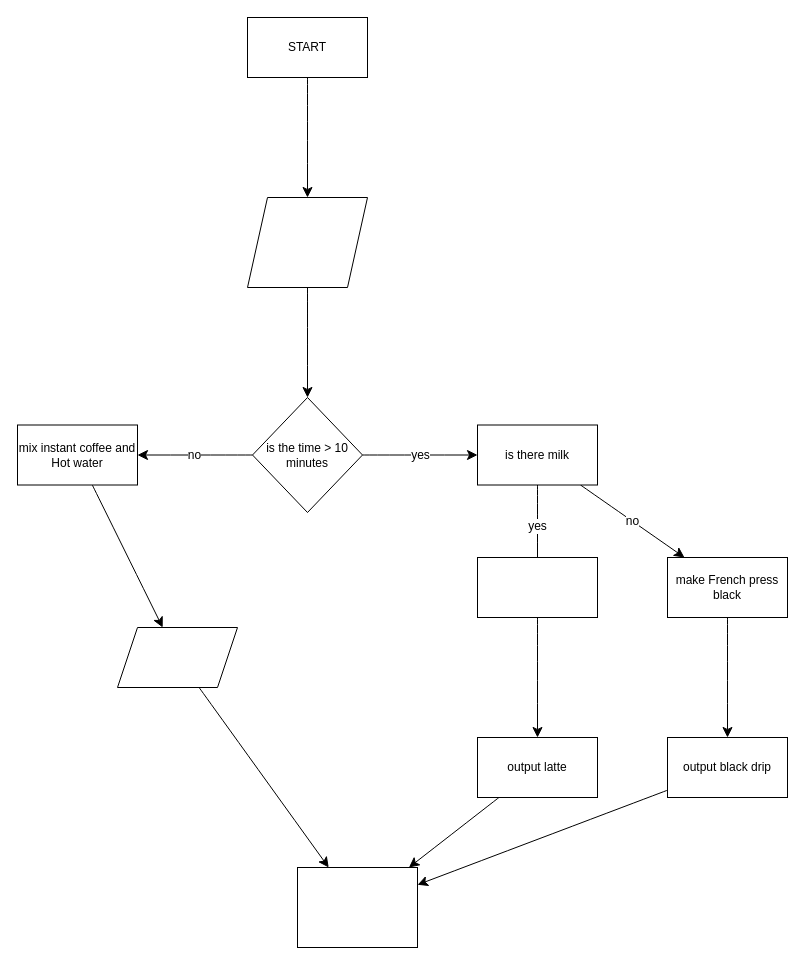
This 805x965 diagram has some shape labels left out. Here are the shapes that lost their labels. From the top down, the centre of each, then its label:
At (307,242): "input is there enough time, and is there milk".
At (537,587): "make french press and steamed milk".
At (177,657): "output instant coffee".
